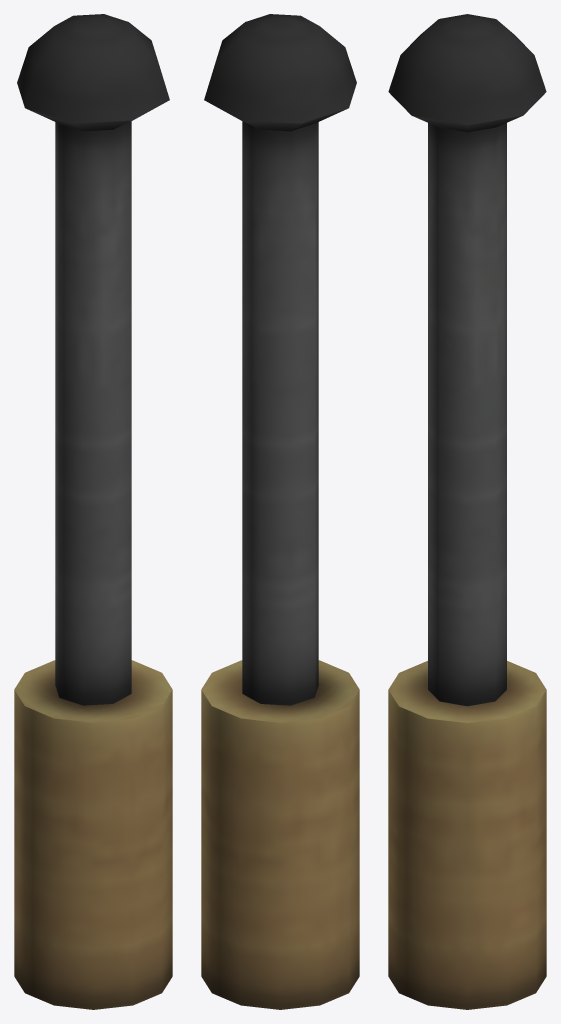
File: octans_basic_docking_port_s0p5_1_probe.obj
3 views of the same model, side by side, from view 1: azimuth 30°, elevation 25°; view 2: azimuth 150°, elevation 25°; view 3: azimuth 270°, elevation 25° (orthographic).
Parts seen in each view (by area): view 1: probe; view 2: probe; view 3: probe.
Part boxes in pixels (x1=…): probe: x1=14, y1=14, x2=172, y2=1009; probe: x1=201, y1=14, x2=359, y2=1009; probe: x1=388, y1=14, x2=546, y2=1009.
Bounding box in the file's own units: 0.075 × 0.5 × 0.075.
